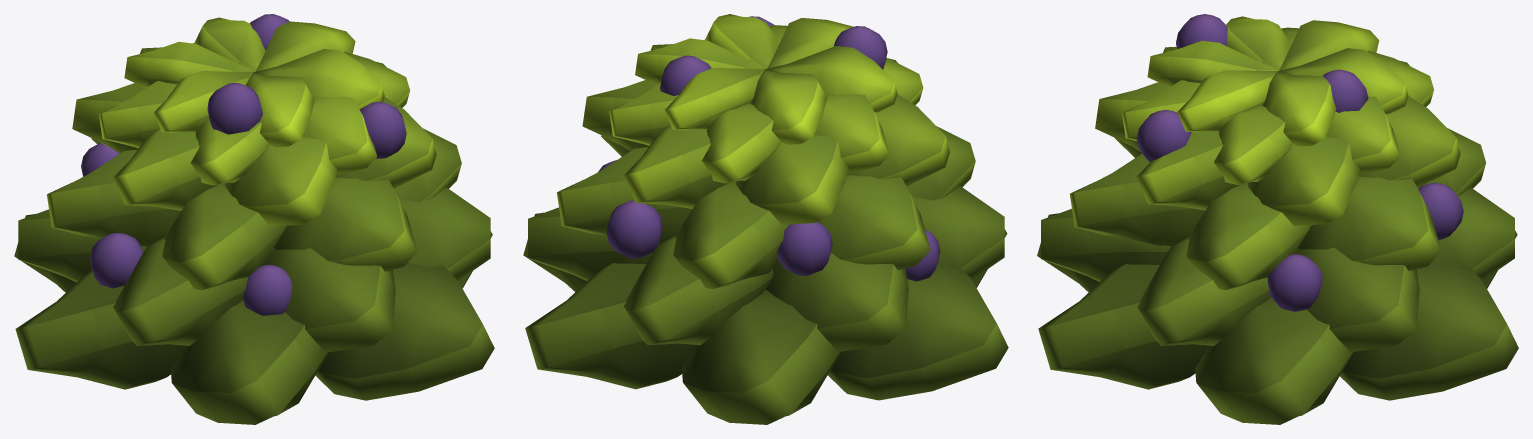
The model's file is bushes_small_purple_berries_LOD_group.fbx.
3 views of the same model, side by side, from view 1: azimuth 30°, elevation 25°; view 2: azimuth 150°, elevation 25°; view 3: azimuth 270°, elevation 25° (orthographic).
Visible parts, largest first — view 1: bushes_small_purple_berries_LOD0; view 2: bushes_small_purple_berries_LOD0; view 3: bushes_small_purple_berries_LOD0.
Part boxes in pixels (left/top/right/bottom): bushes_small_purple_berries_LOD0: left=14, top=14, right=494, bottom=424; bushes_small_purple_berries_LOD0: left=523, top=14, right=1008, bottom=424; bushes_small_purple_berries_LOD0: left=1037, top=14, right=1518, bottom=424.
Size of what is drawn, in the model's own units: 181 by 115 by 166.
1 material, 1 textured.
